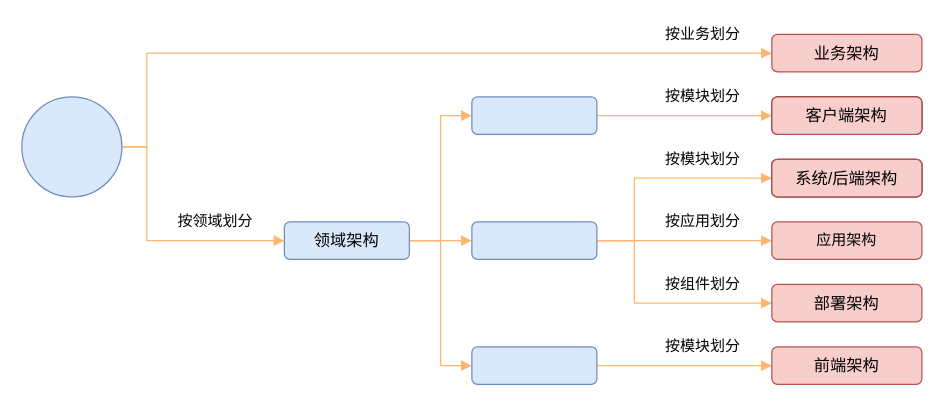
Some shapes in this 944 by 406 pixel diagram are drawn without their labels. Here are the shapes that lost their labels. From the top down, the centre of each, then its label:
At point (534, 115): "客户端".
At point (71, 146): "系统".
At point (534, 240): "后端".
At point (534, 365): "前端".
